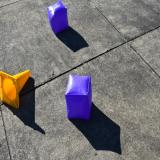cone: (1, 70, 30, 110)
cube: (65, 74, 92, 120), (47, 0, 69, 34)
